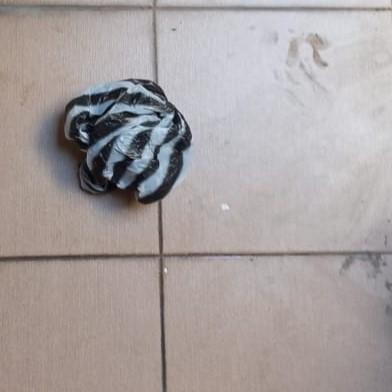Plastik: (62, 79, 193, 205)
